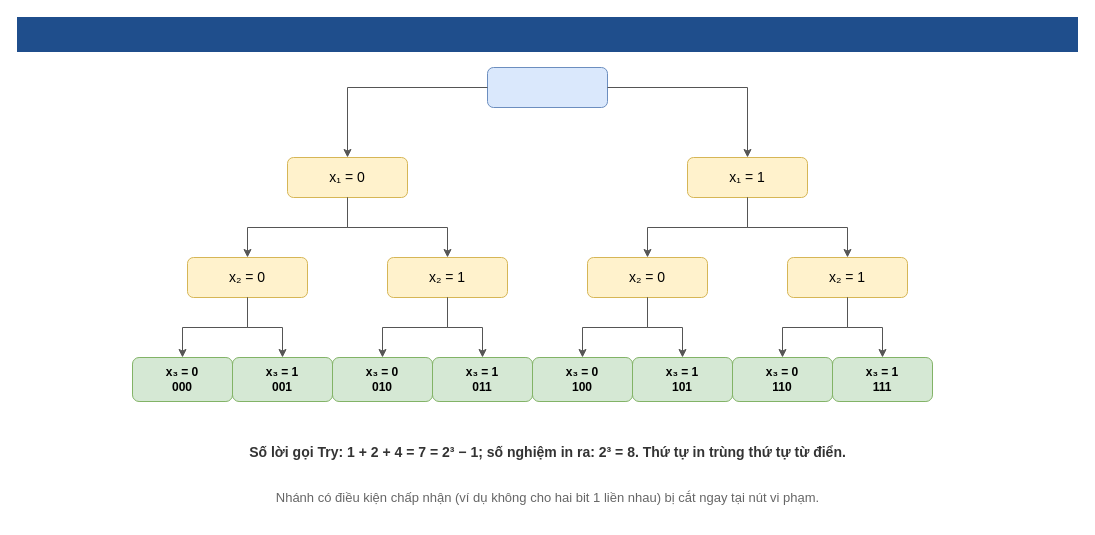
Some shapes in this 1095 by 535 pixel diagram are drawn without their labels. Here are the shapes that lost their labels. From the top down, the box of each, then its label:
(16, 16, 1078, 52): Cây quay lui liệt kê xâu nhị phân độ dài 3 (Try(i): thử 0 rồi 1)
(486, 66, 608, 108): Try(1)
